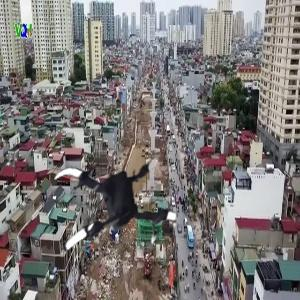drone: (47, 133, 192, 278)
